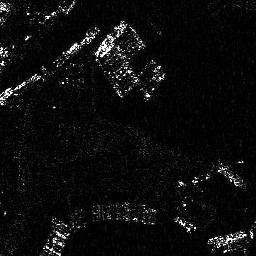ship: (213, 162, 246, 189)
